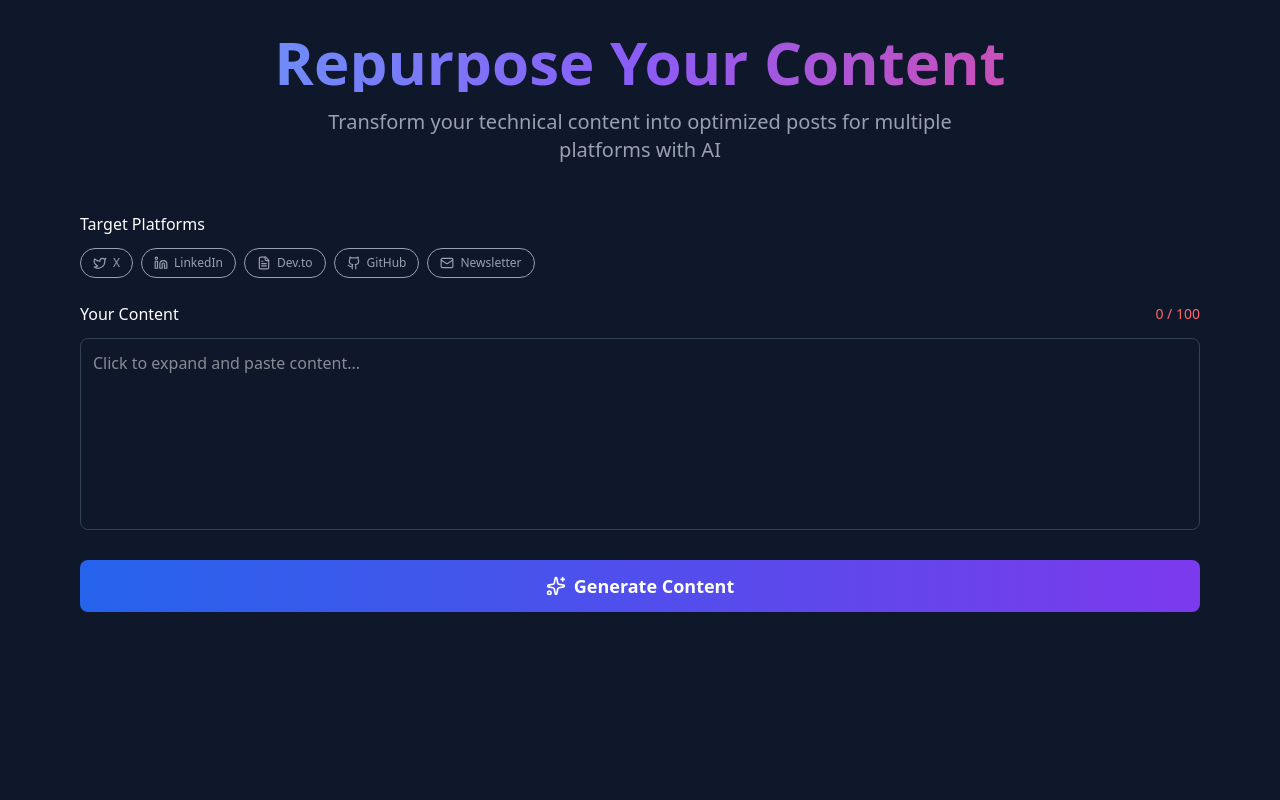
Test: Home page › devrait afficher une erreur si contenu trop court
Sélectionner une plateforme
Click the button "X". click: (106, 263)
box: [80,248,133,278]
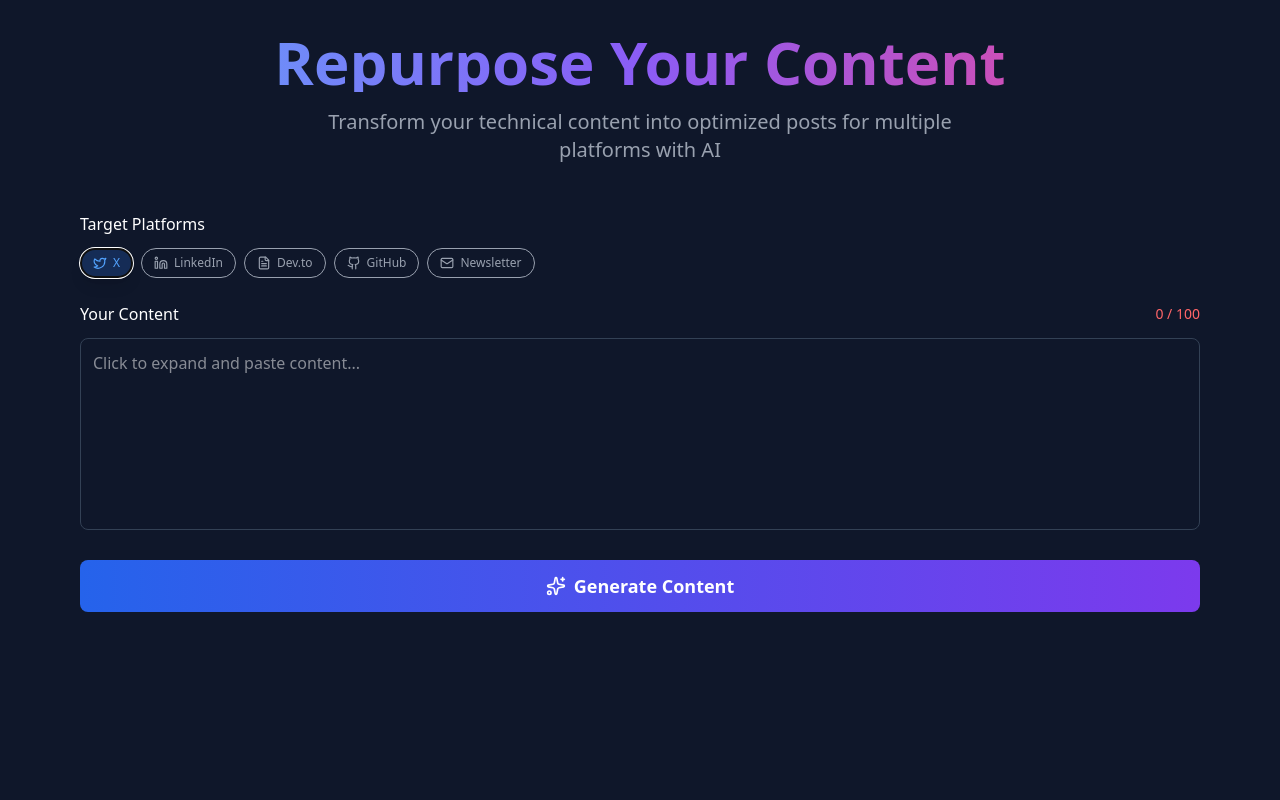
Saisir un contenu trop court
Type "Short" into the text box with placeholder "Click to expand and paste content...". click: (640, 434)
box: [80,338,1200,530]
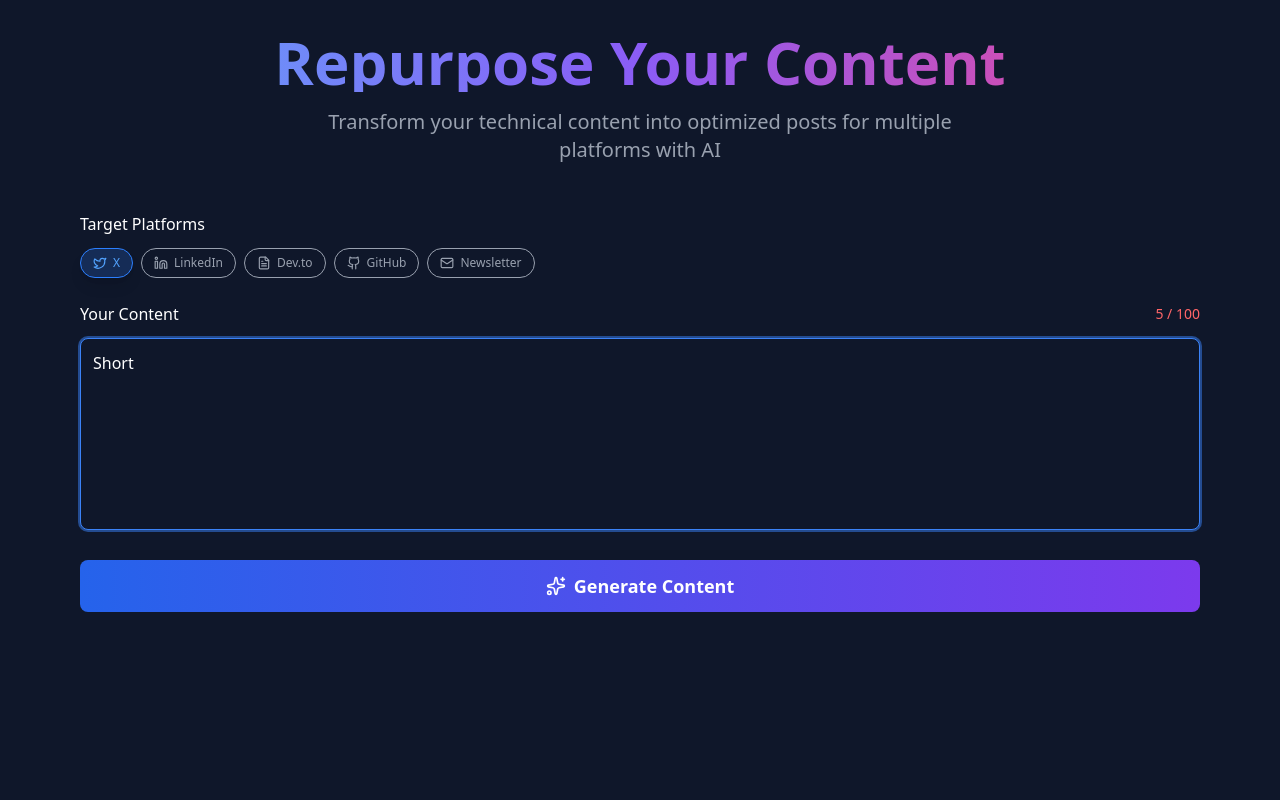
Cliquer sur générer
Click the button "Generate Content". click: (640, 586)
box: [80,560,1200,612]
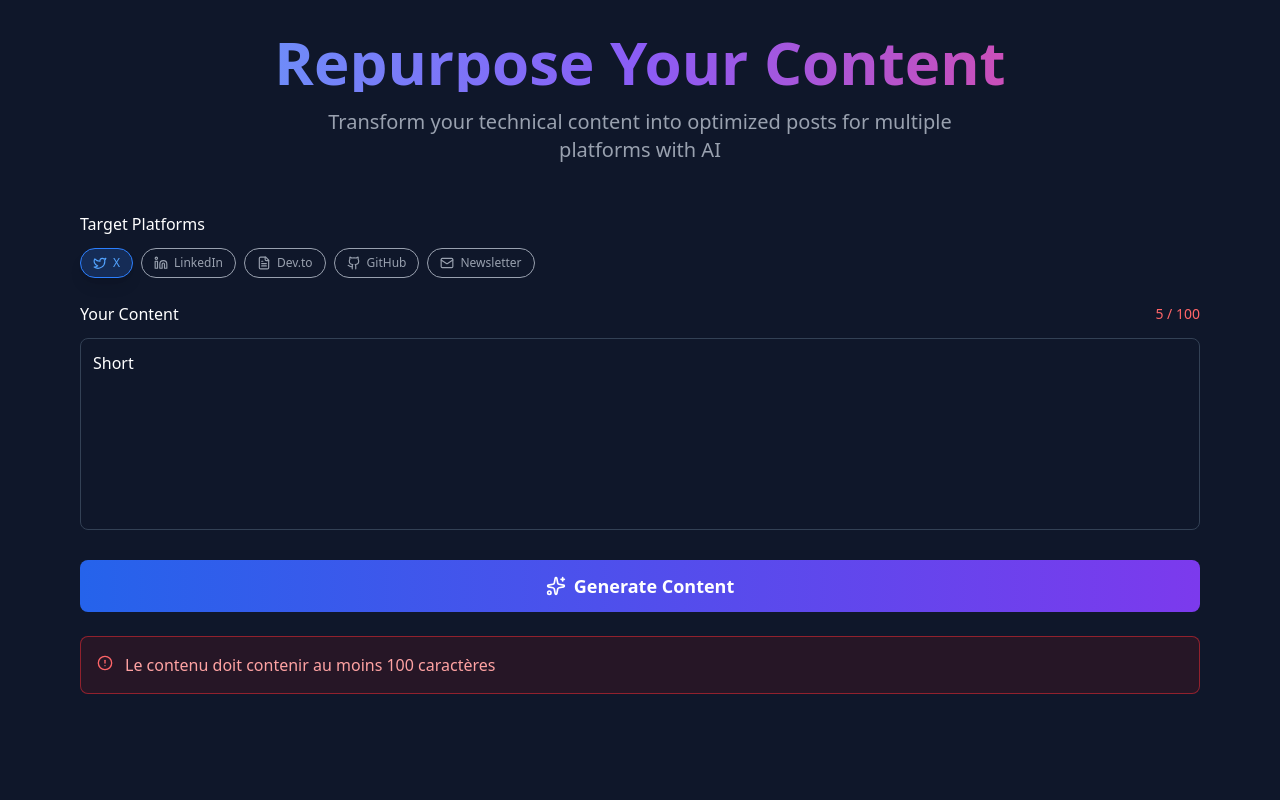
Expected: the text "Le contenu doit contenir au moins 100 caractères" is shown, [125,653,496,677]
